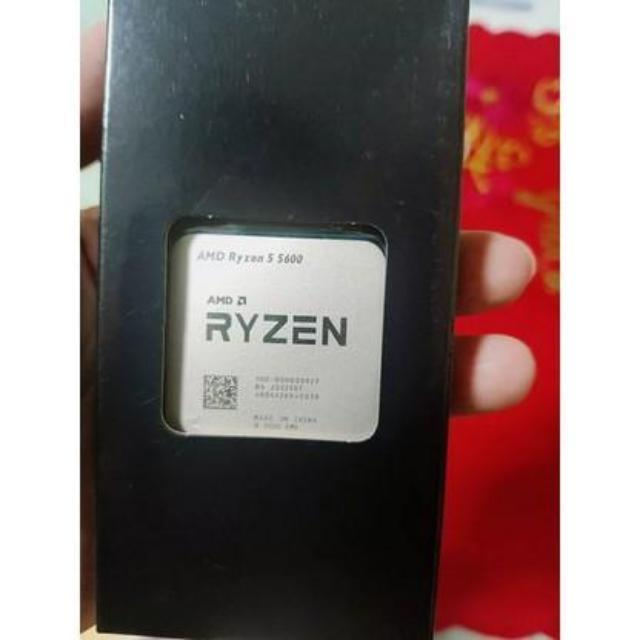CPU: (165, 228, 387, 450)
